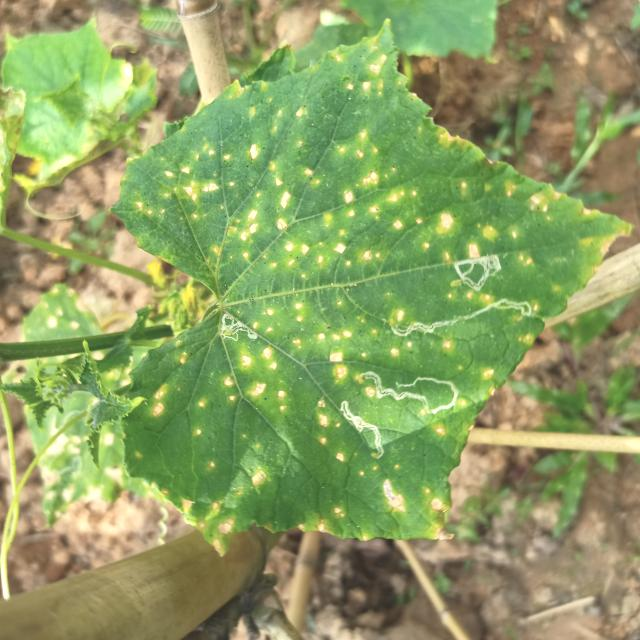disease_cucumber: (144, 61, 568, 276), (174, 344, 290, 435), (254, 298, 352, 382), (182, 460, 267, 551), (362, 467, 451, 530), (311, 396, 345, 468), (366, 337, 459, 360), (294, 505, 346, 536), (448, 287, 492, 306), (150, 380, 169, 420)
